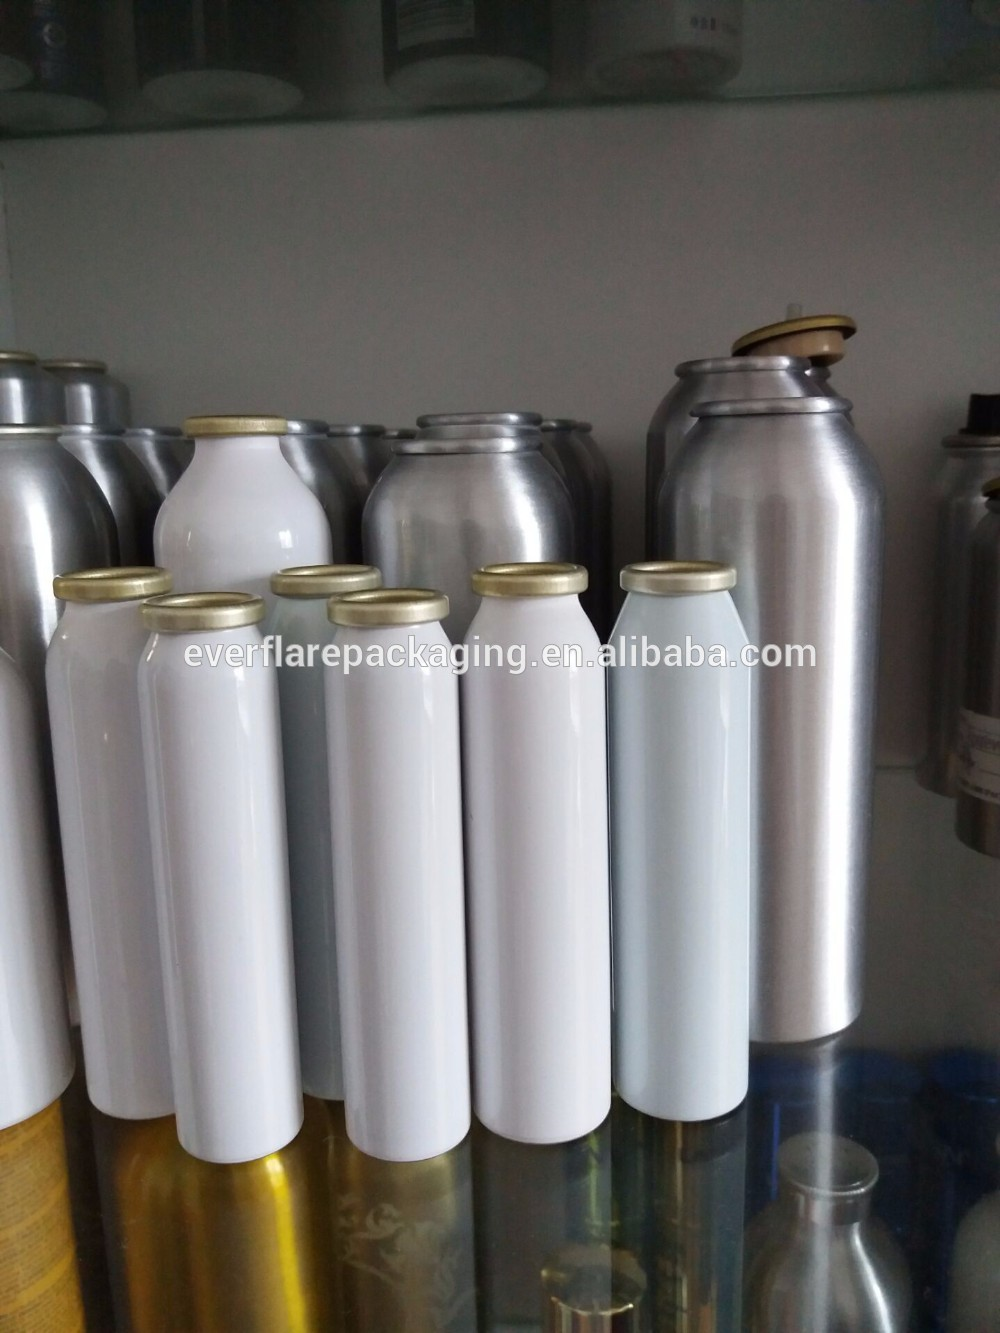Aerosol_cans: (655, 397, 872, 1046), (129, 588, 313, 1174), (317, 578, 483, 1170), (462, 554, 619, 1149), (731, 1129, 926, 1333), (144, 408, 340, 577), (361, 429, 589, 571), (2, 352, 129, 580)
